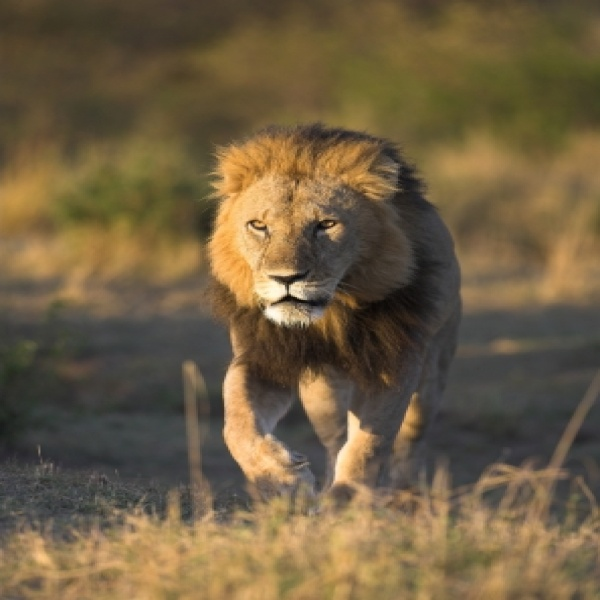Lion: (206, 121, 470, 518)
